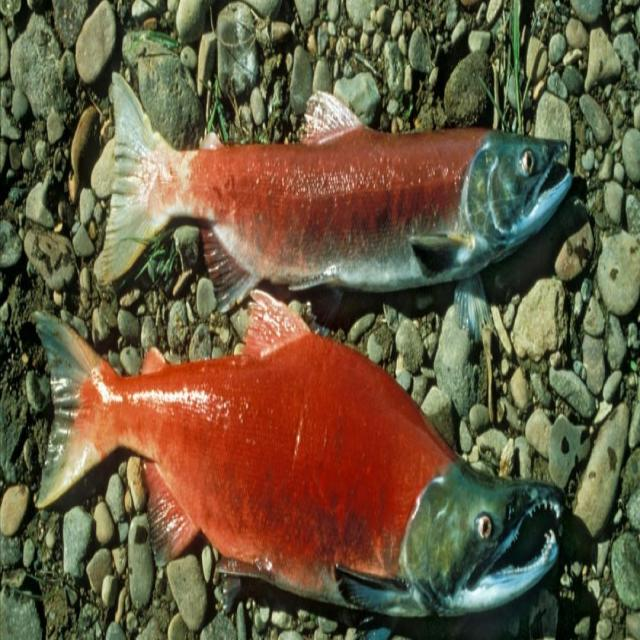salmon: (32, 277, 570, 640), (94, 51, 576, 329)
